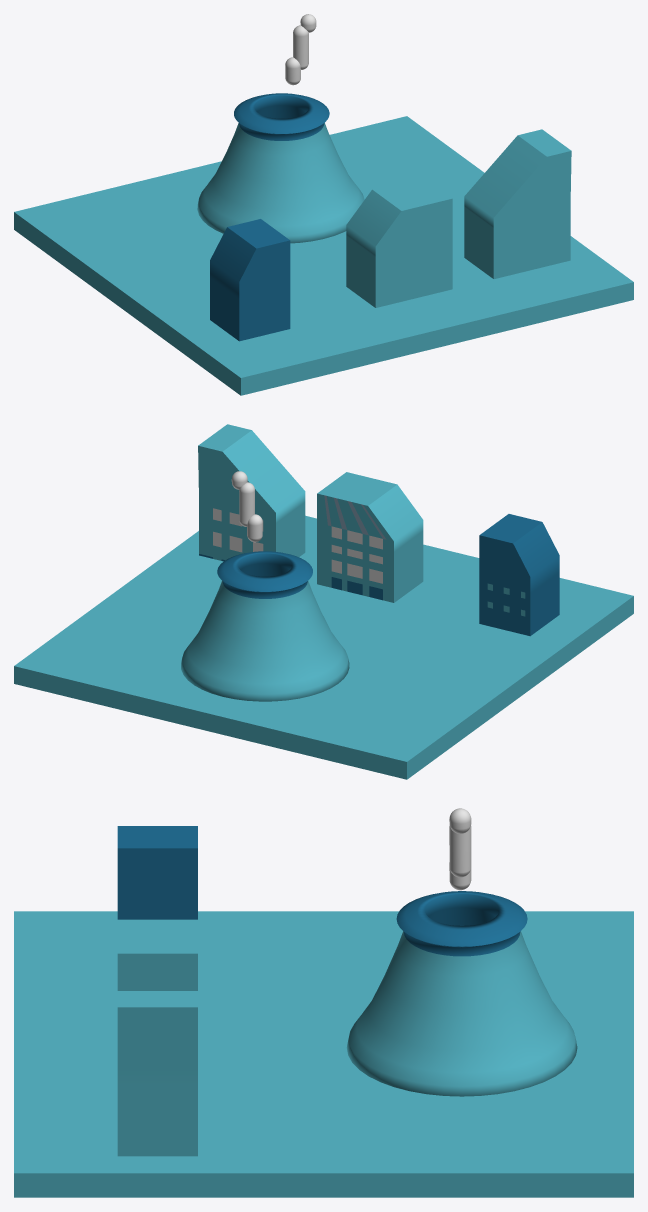
The model's file is factory.glb.gltf.
3 views of the same model, one above another, from view 1: azimuth 30°, elevation 25°; view 2: azimuth 150°, elevation 25°; view 3: azimuth 270°, elevation 25° (orthographic). The views are drawn at different scales.
Visible parts, largest first — view 1: pCube21, pCylinder17, pCube28, pCube26, pCube27, pSphere40; view 2: pCube21, pCylinder17, pCube26, pCube28, pCube27, pSphere40; view 3: pCube21, pCylinder17, pCube28, pCube27, pCube26, pSphere40.
Part boxes in pixels (x1,y1,x2,y2): pCube21: (14, 116, 633, 395); pCylinder17: (197, 93, 364, 243); pCube28: (464, 129, 571, 278); pCube26: (346, 177, 452, 307); pCube27: (210, 219, 290, 341); pSphere40: (293, 25, 308, 69); pCube21: (14, 515, 633, 779); pCylinder17: (181, 551, 349, 701); pCube26: (317, 472, 423, 602); pCube28: (198, 424, 305, 561); pCube27: (479, 514, 559, 636); pSphere40: (239, 482, 254, 526); pCube21: (14, 911, 633, 1197); pCylinder17: (346, 891, 577, 1096); pCube28: (117, 991, 197, 1156); pCube27: (117, 826, 197, 919); pCube26: (117, 919, 197, 990); pSphere40: (449, 826, 471, 877).
Bounding box in the file's own units: 1.47 × 0.7464 × 1.47.
